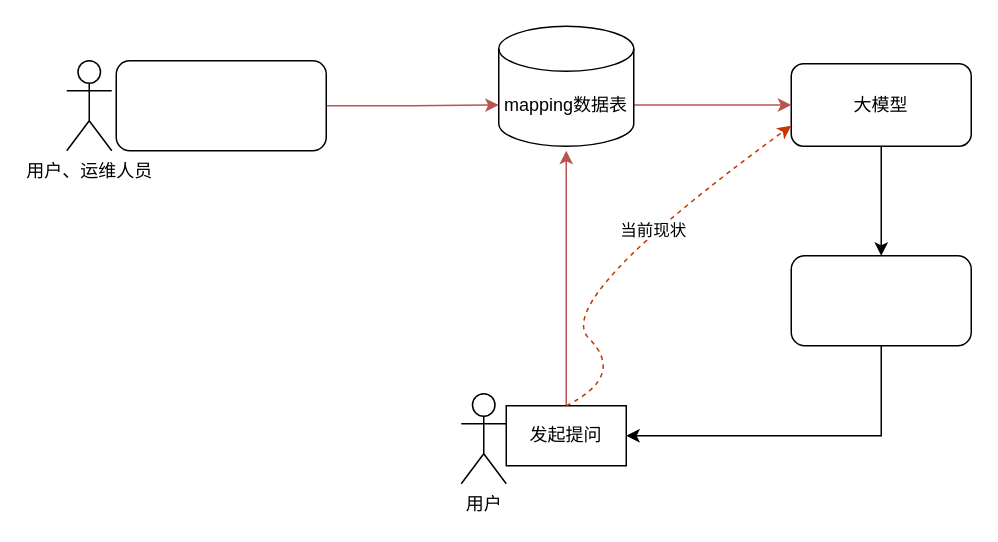
Some shapes in this 998 by 542 pixel diagram are drawn without their labels. The centre of each missing label's shape, as x and y in pixels:
处理响应结果: pixel 880 300
页面配置专业术语解释、计算公式等: pixel 220 105
